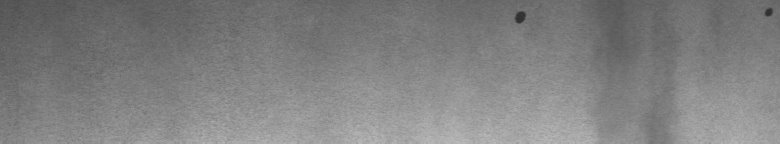fi: (508, 4, 532, 32)
